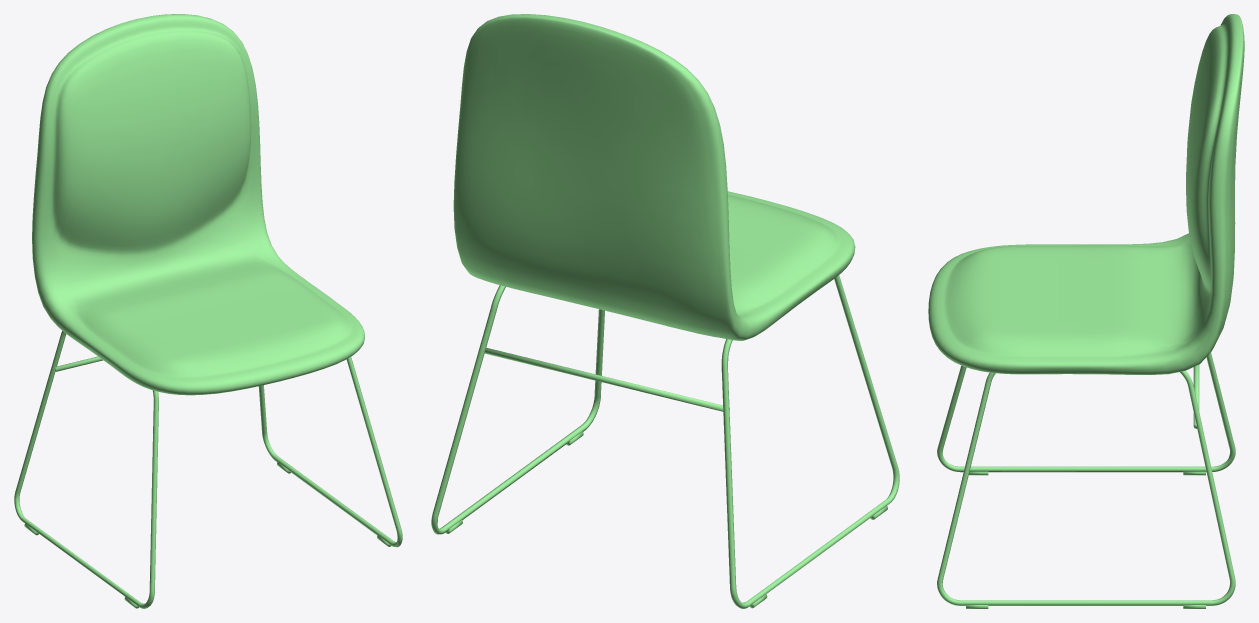
File: smallchair.gltf
The picture shows the model from 3 angles, left to right: view 1: azimuth 30°, elevation 25°; view 2: azimuth 150°, elevation 25°; view 3: azimuth 270°, elevation 25°; orthographic projection. The views are drawn at different scales.
Visible parts, largest first — view 1: sandalye, Object02; view 2: sandalye, Object02; view 3: sandalye, Object02.
Part boxes in pixels (left/top/right/bottom): sandalye: left=32, top=14, right=364, bottom=395; Object02: left=14, top=331, right=402, bottom=608; sandalye: left=453, top=14, right=855, bottom=340; Object02: left=431, top=275, right=899, bottom=608; sandalye: left=928, top=14, right=1244, bottom=374; Object02: left=937, top=352, right=1235, bottom=605.
Size of the model in its own units: 502 by 868 by 492.
